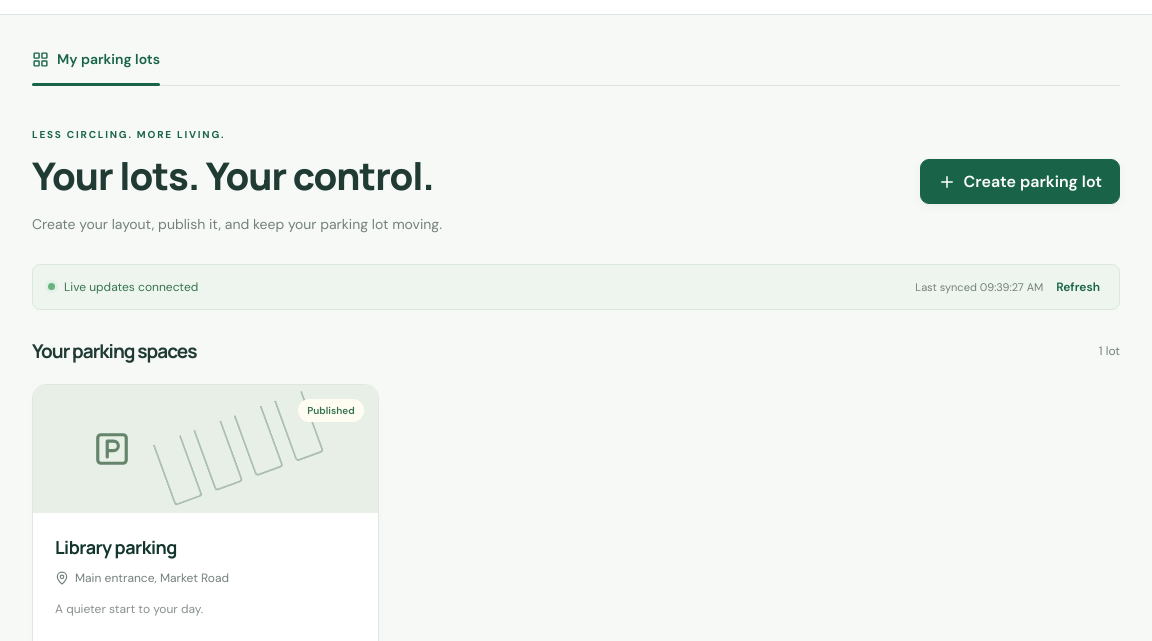
Test case: owner and visitor experiences › invalidates preview when dimensions change and never saves the stale preview
Click the button "Create parking lot": [1020, 182] box left=920, top=159, right=1120, bottom=204
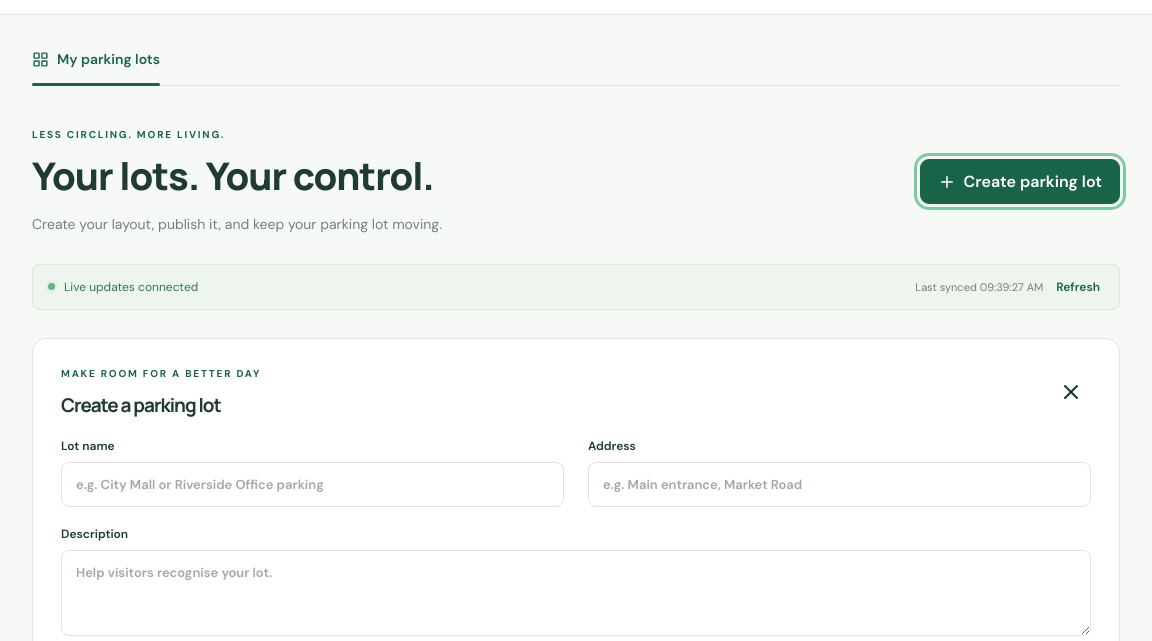
In the field labelled "Lot name": [312, 484] box left=61, top=462, right=564, bottom=507, type "Lot"
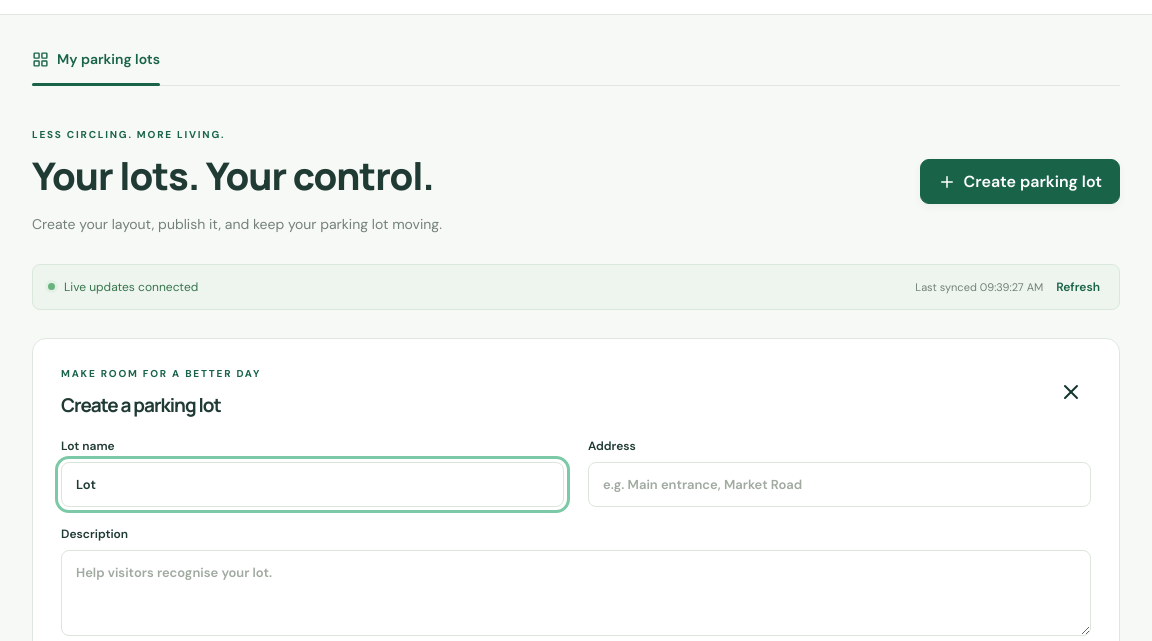
In the field labelled "Address": [840, 484] box left=588, top=462, right=1091, bottom=507, type "Gate"
(page scrolled)
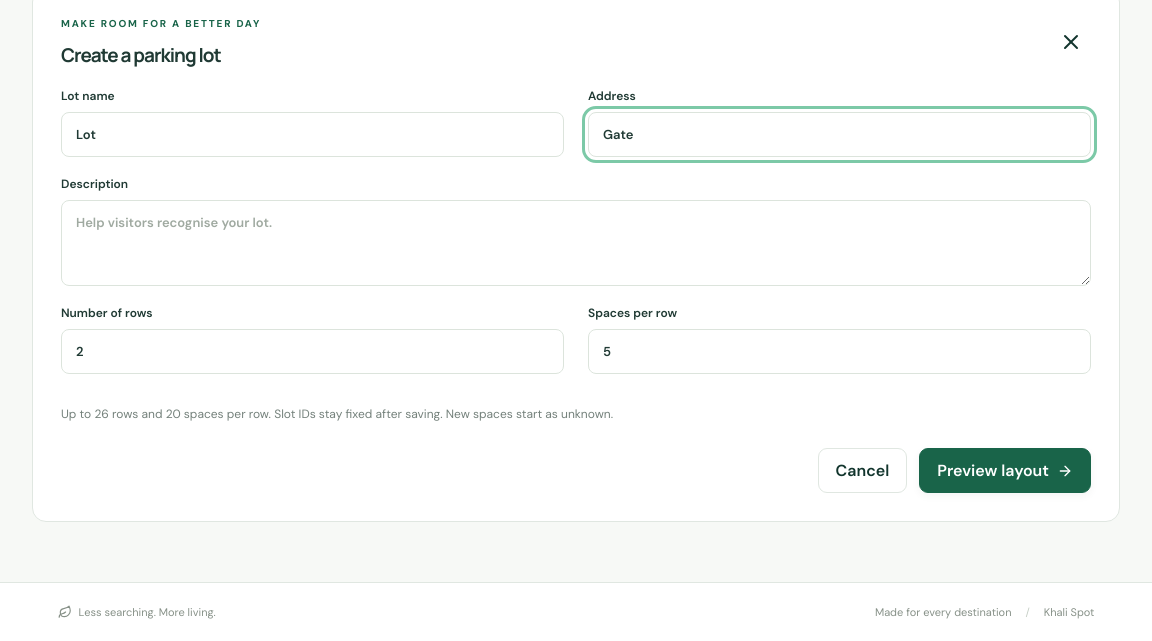
Click the button "Preview layout": [1005, 471] box left=919, top=448, right=1091, bottom=494
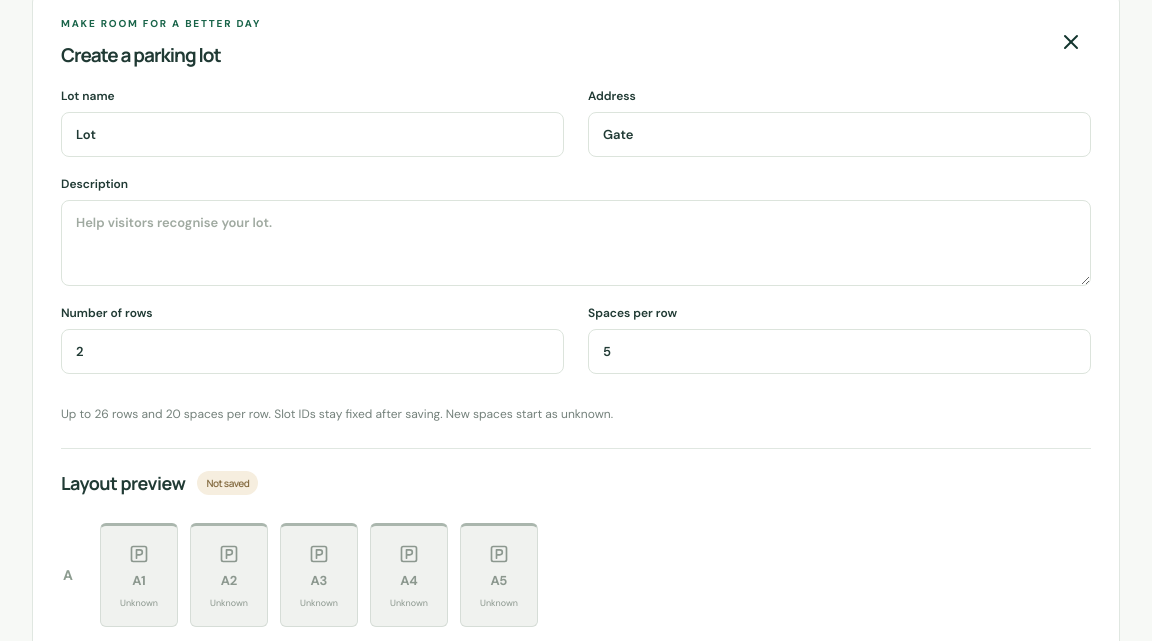
Replace the text in the number field labelled "Number of rows" with "3": [312, 351] box left=61, top=329, right=564, bottom=374
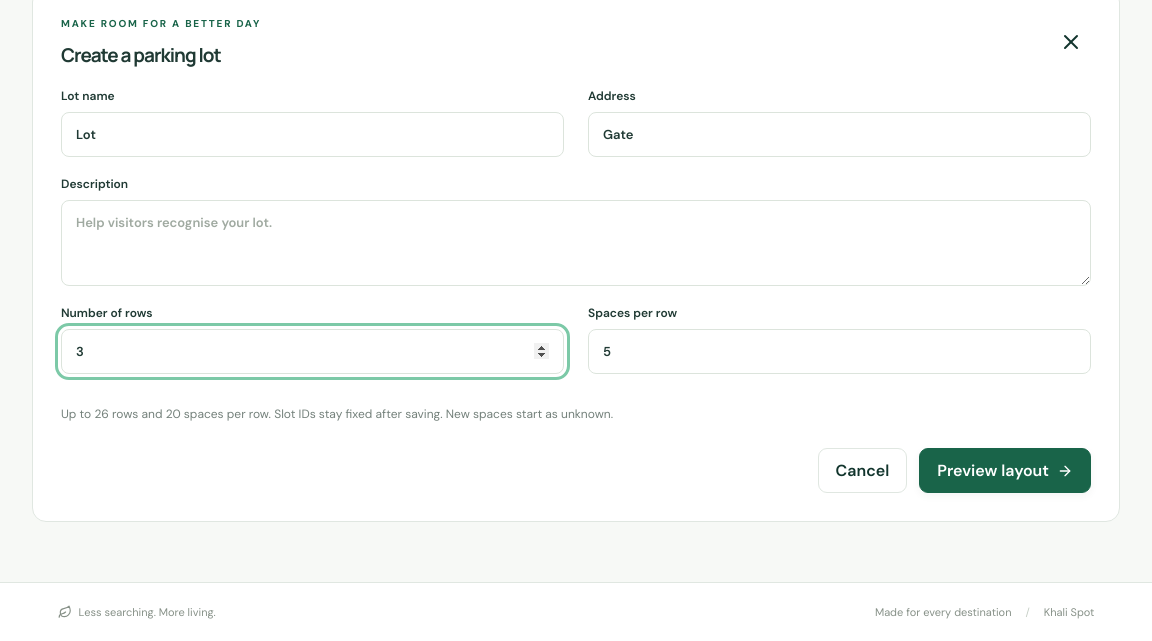
Expected: the form "Save draft lot" is not shown
Click the button "Preview layout": [1005, 471] box left=919, top=448, right=1091, bottom=494
(page scrolled)
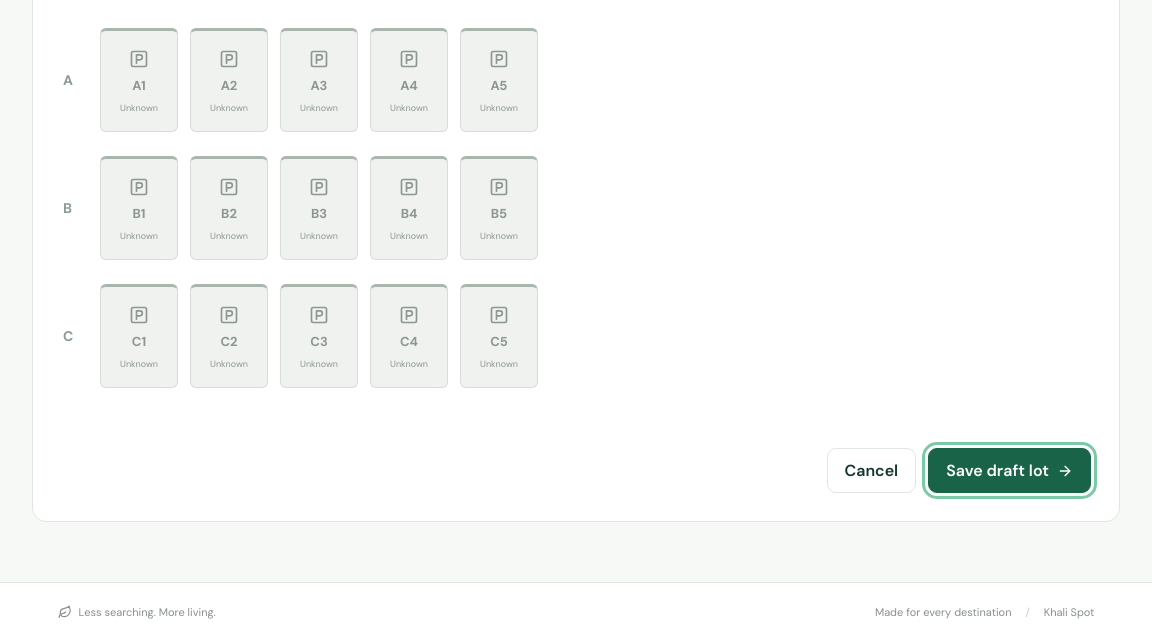
Expected: the text "C5" is shown, left=490, top=333, right=508, bottom=350
